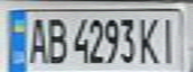2: (87, 15, 106, 65)
3: (118, 15, 139, 65)
4: (69, 14, 90, 65)
9: (103, 15, 121, 65)
A: (24, 14, 48, 65)
B: (42, 14, 69, 65)
I: (157, 12, 187, 65)
K: (136, 14, 163, 65)
